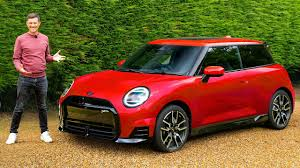car: (56, 34, 295, 153)
